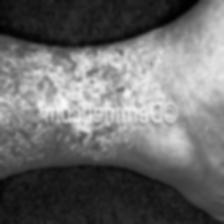Non-Cancerous Skin Condition: (0, 12, 208, 103)
